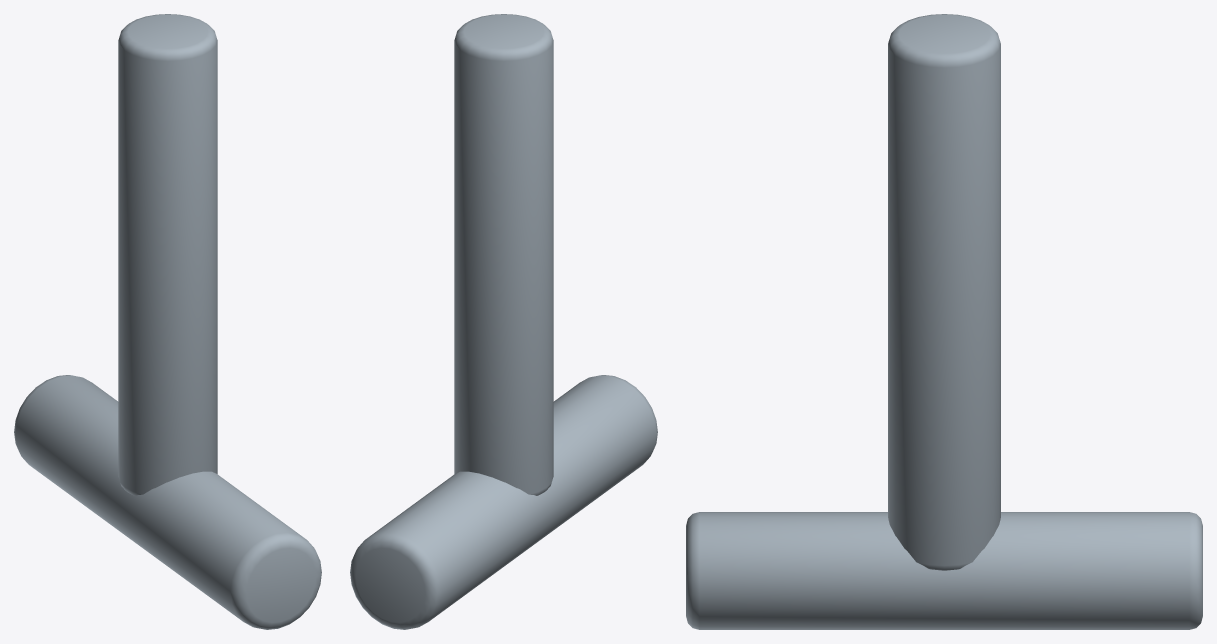
Rendered from rail_post.glb.
3 views of the same model, side by side, from view 1: azimuth 30°, elevation 25°; view 2: azimuth 150°, elevation 25°; view 3: azimuth 270°, elevation 25° (orthographic). The views are drawn at different scales.
Parts seen in each view (by area): view 1: rail_post_textured_mesh; view 2: rail_post_textured_mesh; view 3: rail_post_textured_mesh.
Boxes of the visible parts, x1=… form: rail_post_textured_mesh: x1=14, y1=14, x2=321, y2=629; rail_post_textured_mesh: x1=350, y1=14, x2=657, y2=629; rail_post_textured_mesh: x1=686, y1=14, x2=1202, y2=629.
Size of the model in its own units: 0.22 by 1.21 by 0.96.
Materials: 1 (1 with a texture image).
